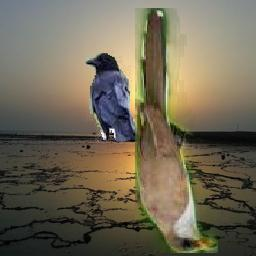Crow: (84, 52, 139, 143)
Cuckoo: (136, 9, 219, 254)
